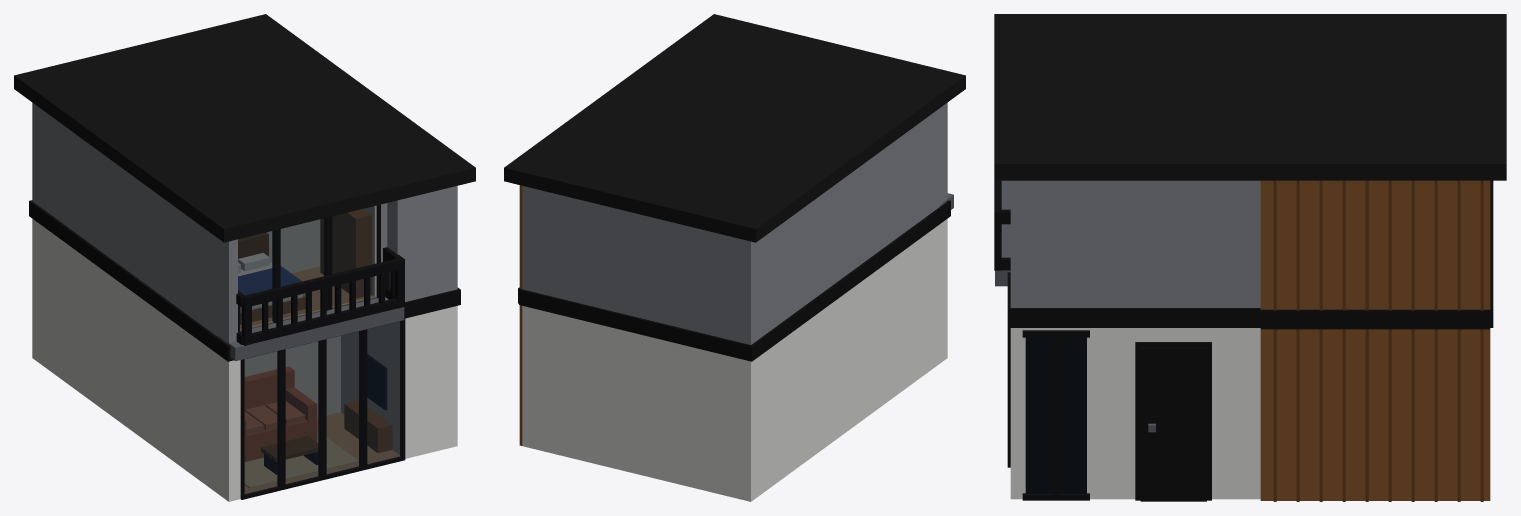
Rendered from rumah-tipe1.glb.
3 renders of one model, left to right at view 1: azimuth 30°, elevation 25°; view 2: azimuth 150°, elevation 25°; view 3: azimuth 270°, elevation 25°, orthographic. The views are drawn at different scales.
Parts seen in each view (by area): view 1: RoofSlab, Body_F1_Left, Body_F2_LB_Left, Body_F1_Right, Body_F2_Right, FrontGlass_0, FrontGlass_2, FrontGlass_1, FrontGlass_3, LR_WallR, Band_Left, BalconyGlass_2 (+29 smaller); view 2: RoofSlab, Body_F1_Left, Body_F1_Back, Body_F2_LB_Left, Body_F2_LB_Back, Body_F1_Right, Body_F2_Right, Band_Back, Band_Left, Body_F2_LB_Right, Body_F2_Cheek, WoodPanel_Low; view 3: RoofSlab, WoodPanel_Low, Body_F2_Right, WoodPanel_High, Body_F1_Right, Door_Leaf, SideWindow_Backing, SideWindow_Glass, Band_Right, Band_PanelStrip, Door_Frame, SideWindow_Mullion (+12 smaller).
Part boxes in pixels (x1,y1,x2,y2): RoofSlab: [14, 14, 475, 242]; Body_F1_Left: [32, 219, 240, 501]; Body_F2_LB_Left: [32, 102, 218, 337]; Body_F1_Right: [405, 306, 457, 458]; Body_F2_Right: [387, 186, 457, 301]; FrontGlass_0: [244, 351, 279, 495]; FrontGlass_2: [326, 331, 361, 475]; FrontGlass_1: [285, 341, 320, 485]; FrontGlass_3: [367, 321, 401, 465]; LR_WallR: [341, 321, 399, 454]; Band_Left: [30, 202, 228, 359]; BalconyGlass_2: [332, 205, 377, 308]; RoofSlab: [504, 14, 965, 242]; Body_F1_Left: [739, 219, 947, 501]; Body_F1_Back: [575, 319, 739, 498]; Body_F2_LB_Left: [742, 110, 937, 344]; Body_F2_LB_Back: [593, 203, 741, 342]; Body_F1_Right: [522, 306, 575, 458]; Body_F2_Right: [522, 186, 582, 303]; Band_Back: [519, 289, 753, 361]; Band_Left: [752, 202, 949, 359]; Body_F2_LB_Right: [582, 200, 593, 306]; Body_F2_Cheek: [937, 102, 947, 208]; WoodPanel_Low: [519, 305, 522, 445]; RoofSlab: [994, 14, 1506, 180]; WoodPanel_Low: [1260, 329, 1490, 500]; Body_F2_Right: [1010, 180, 1260, 307]; WoodPanel_High: [1260, 180, 1490, 309]; Body_F1_Right: [1010, 328, 1260, 499]; Door_Leaf: [1140, 347, 1206, 501]; SideWindow_Backing: [1025, 337, 1086, 493]; SideWindow_Glass: [1026, 338, 1086, 494]; Band_Right: [1011, 308, 1260, 327]; Band_PanelStrip: [1260, 309, 1490, 329]; Door_Frame: [1135, 342, 1211, 500]; SideWindow_Mullion: [1052, 337, 1059, 494].
Bounding box in the file's own units: 0.694 × 0.739 × 1.
